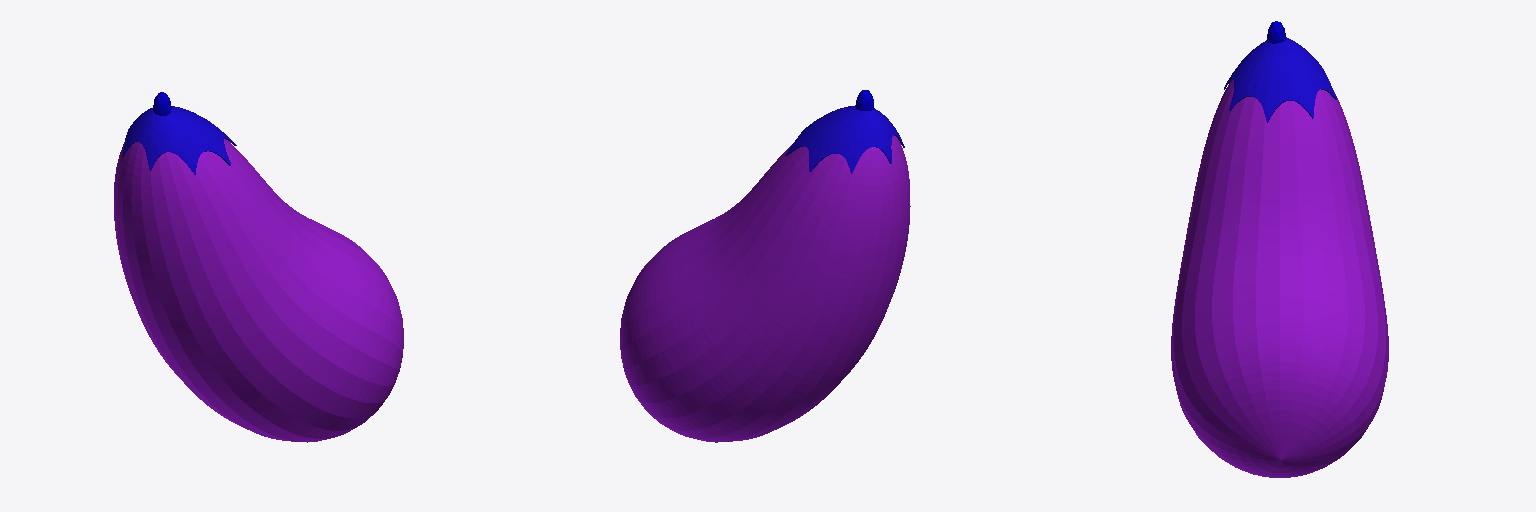
File: eggplant.obj
3 renders of one model, left to right at view 1: azimuth 30°, elevation 25°; view 2: azimuth 150°, elevation 25°; view 3: azimuth 270°, elevation 25°, orthographic.
Visible parts, largest first — view 1: NURBSパス, 球; view 2: NURBSパス, 球; view 3: NURBSパス, 球.
Part boxes in pixels (x1,y1,x2,y2): NURBSパス: (114,139,403,442); 球: (122,106,236,174); NURBSパス: (620,135,910,442); 球: (785,105,904,173); NURBSパス: (1171,80,1388,477); 球: (1224,37,1336,122).
Bounding box in the file's own units: 3.62 × 4.9 × 2.56.